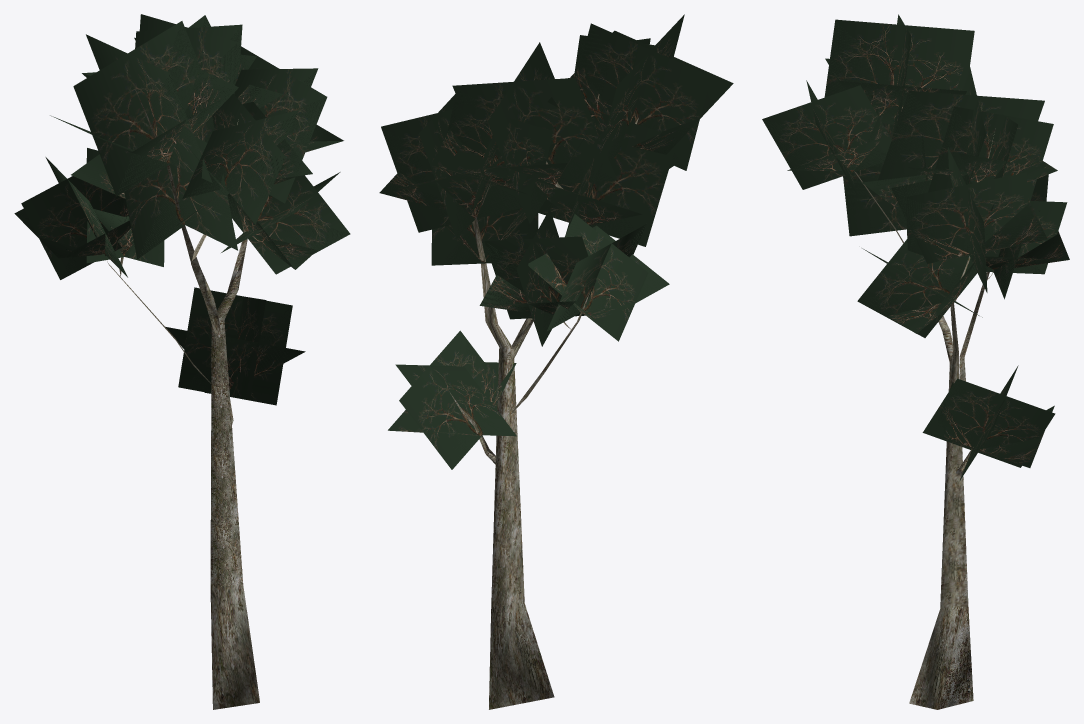
File: decd_hollytreebranches_a2_l1.fbx
The picture shows the model from 3 angles, left to right: view 1: azimuth 30°, elevation 25°; view 2: azimuth 150°, elevation 25°; view 3: azimuth 270°, elevation 25°; orthographic projection. The views are drawn at different scales.
Visible parts, largest first — view 1: mesh_node; view 2: mesh_node; view 3: mesh_node.
Boxes of the visible parts, bbox=[...] form: mesh_node: bbox=[14, 14, 350, 709]; mesh_node: bbox=[379, 14, 733, 709]; mesh_node: bbox=[762, 14, 1069, 709].
Size of the model in its own units: 7.8 by 17.84 by 7.85.
